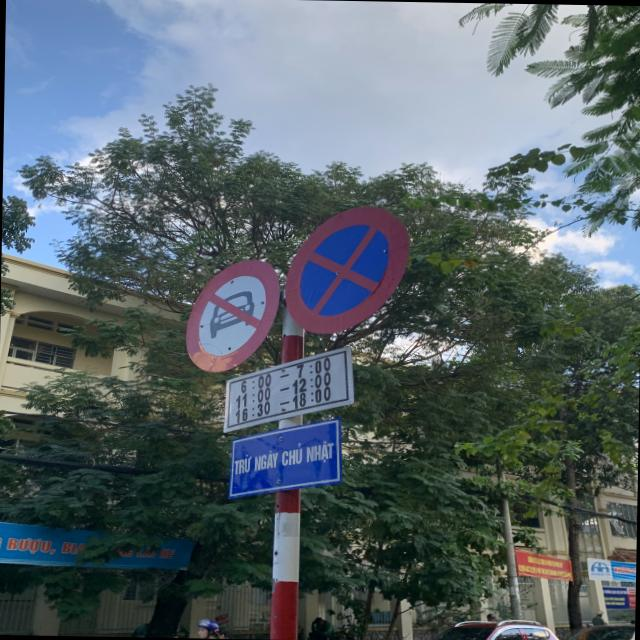Cam_Dung_Va_Dau_Xe: (286, 205, 410, 338)
Cam_O_To: (184, 255, 280, 372)
